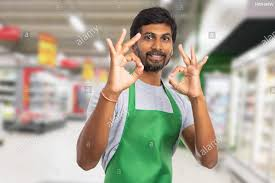Indian_Male: (133, 24, 178, 82)
